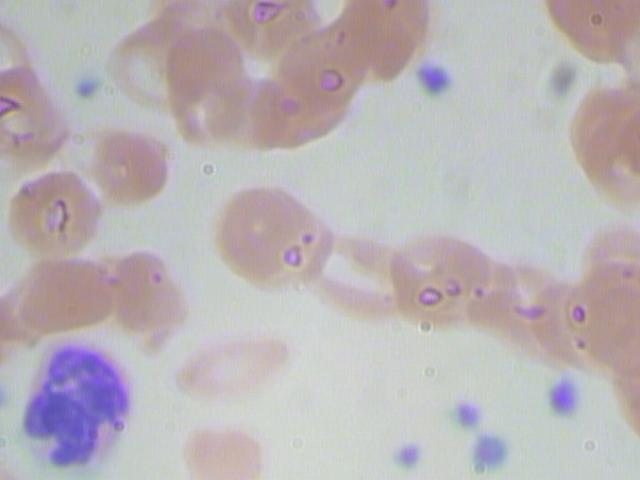RBC: (216, 187, 341, 296), (374, 229, 498, 328), (105, 245, 195, 362), (3, 252, 118, 343), (299, 225, 414, 316), (169, 326, 296, 405), (5, 162, 108, 259), (160, 415, 280, 480), (93, 128, 179, 208)
